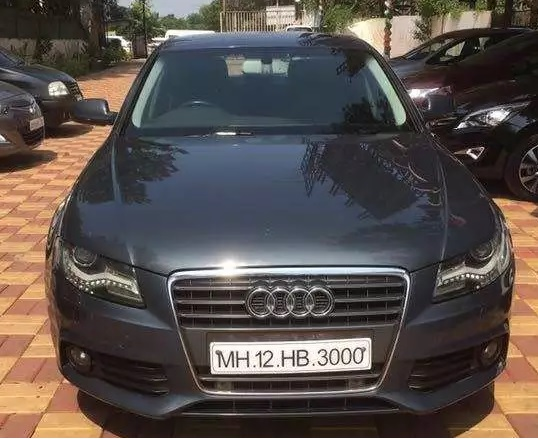licenseplate: (208, 339, 376, 376)
